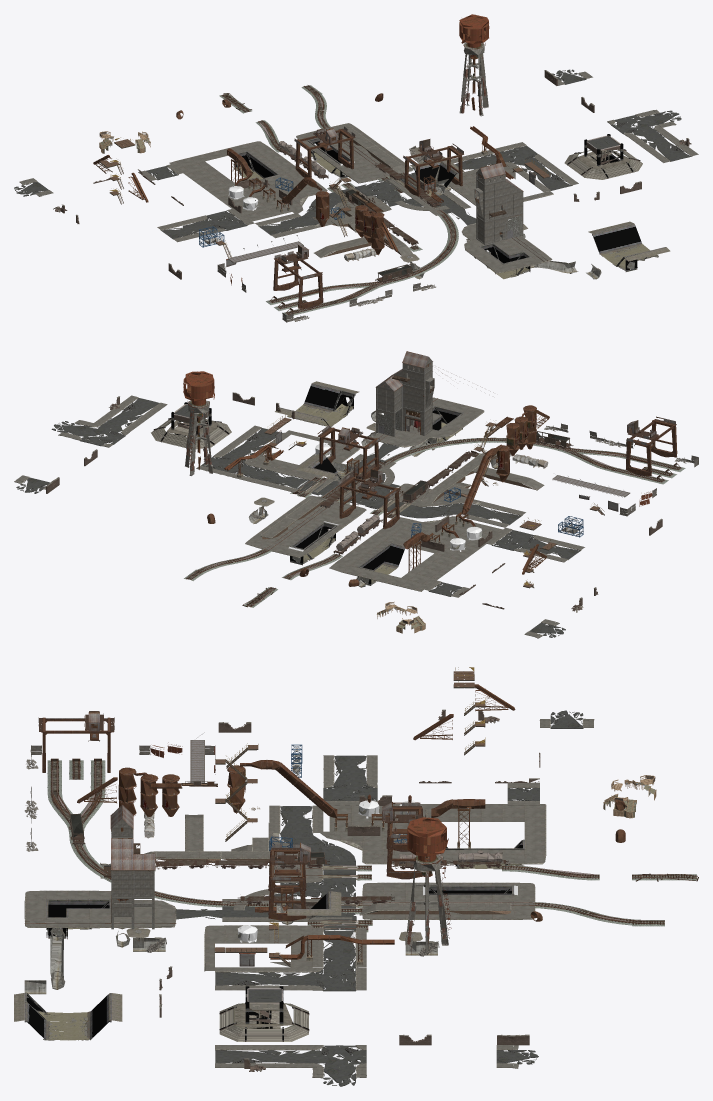
Rendered from trainyard_1-map.glb.
3 views of the same model, one above another, from view 1: azimuth 30°, elevation 25°; view 2: azimuth 150°, elevation 25°; view 3: azimuth 270°, elevation 25° (orthographic). The views are drawn at different scales.
Visible parts, largest first — view 1: pavemnent_trainyard_b_LOD0, road_9x15_LOD0, water_tower_industrial_LOD0, road_nopavement_9x15_railway_LOD0, pipeline_100x300_up600_LOD0, sewer_wall_corner_600x600_LOD0, pipeline_300x900_hole_LOD0, train_wagon_b_LOD0, sewer_drainwall_600_LOD0, silo_a_LOD0, wall_300x900_collapsed_LOD0, train_crane_a_LOD0 (+7 smaller); view 2: pavemnent_trainyard_b_LOD0, road_9x15_LOD0, water_tower_industrial_LOD0, road_nopavement_9x15_railway_LOD0, pipeline_100x300_up600_LOD0, pipeline_300x900_hole_LOD0, sewer_wall_corner_600x600_LOD0, train_wagon_b_LOD0, sewer_drainwall_600_LOD0, train_crane_a_LOD0, wall_300x900_collapsed_LOD0, pipeline_pylon_300x1200 (+10 smaller); view 3: pavemnent_trainyard_b_LOD0, road_9x15_LOD0, road_nopavement_9x15_railway_LOD0, pipeline_100x300_up600_LOD0, water_tower_industrial_LOD0, train_wagon_b_LOD0, sewer_wall_corner_600x600_LOD0, pipeline_300x900_hole_LOD0, sewer_drainwall_600_LOD0, train_crane_a_LOD0, silo_a_LOD0, wall_300x900_collapsed_LOD0 (+11 smaller).
Boxes of the visible parts, bbox=[...] form: pavemnent_trainyard_b_LOD0: bbox=[19, 71, 698, 273]; road_9x15_LOD0: bbox=[14, 69, 691, 239]; water_tower_industrial_LOD0: bbox=[410, 14, 523, 265]; road_nopavement_9x15_railway_LOD0: bbox=[219, 53, 547, 315]; pipeline_100x300_up600_LOD0: bbox=[176, 93, 503, 308]; sewer_wall_corner_600x600_LOD0: bbox=[234, 134, 665, 275]; pipeline_300x900_hole_LOD0: bbox=[94, 42, 666, 308]; train_wagon_b_LOD0: bbox=[274, 128, 463, 282]; sewer_drainwall_600_LOD0: bbox=[99, 133, 670, 279]; silo_a_LOD0: bbox=[93, 155, 397, 255]; wall_300x900_collapsed_LOD0: bbox=[53, 70, 691, 279]; train_crane_a_LOD0: bbox=[248, 43, 657, 278]; pavemnent_trainyard_b_LOD0: bbox=[14, 395, 584, 638]; road_9x15_LOD0: bbox=[16, 398, 580, 637]; water_tower_industrial_LOD0: bbox=[183, 357, 496, 530]; road_nopavement_9x15_railway_LOD0: bbox=[184, 397, 685, 607]; pipeline_100x300_up600_LOD0: bbox=[207, 410, 677, 586]; pipeline_300x900_hole_LOD0: bbox=[185, 360, 676, 583]; sewer_wall_corner_600x600_LOD0: bbox=[154, 383, 463, 585]; train_wagon_b_LOD0: bbox=[318, 419, 676, 554]; sewer_drainwall_600_LOD0: bbox=[254, 381, 496, 630]; train_crane_a_LOD0: bbox=[190, 351, 675, 568]; wall_300x900_collapsed_LOD0: bbox=[46, 392, 662, 612]; pipeline_pylon_300x1200: bbox=[213, 351, 637, 585]; pavemnent_trainyard_b_LOD0: bbox=[24, 718, 594, 1078]; road_9x15_LOD0: bbox=[176, 710, 583, 1086]; road_nopavement_9x15_railway_LOD0: bbox=[24, 758, 698, 934]; pipeline_100x300_up600_LOD0: bbox=[39, 716, 625, 941]; water_tower_industrial_LOD0: bbox=[53, 817, 451, 954]; train_wagon_b_LOD0: bbox=[39, 711, 509, 904]; sewer_wall_corner_600x600_LOD0: bbox=[25, 839, 524, 1040]; pipeline_300x900_hole_LOD0: bbox=[24, 687, 524, 1021]; sewer_drainwall_600_LOD0: bbox=[14, 782, 655, 1040]; train_crane_a_LOD0: bbox=[37, 713, 521, 1040]; silo_a_LOD0: bbox=[77, 684, 514, 816]; wall_300x900_collapsed_LOD0: bbox=[159, 709, 540, 1071].
Size of the model in its own units: 247 by 57.66 by 190.
Materials: 63 (63 with a texture image).
